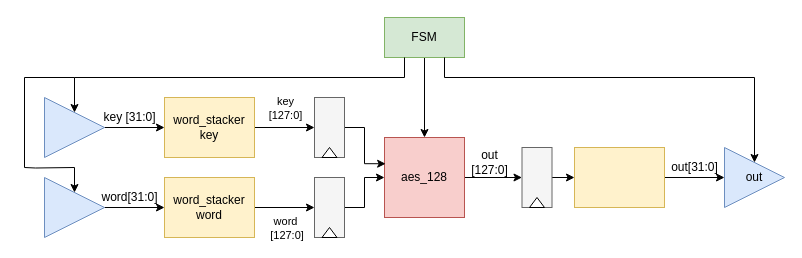
This 802x258 diagram has some shape labels left out. The box of each missing label's shape, as (x1, y1, x2, y2) in pixels:
key_i: (44, 96, 104, 158)
word_i: (44, 176, 104, 238)
word_unstacker out: (574, 146, 664, 208)
